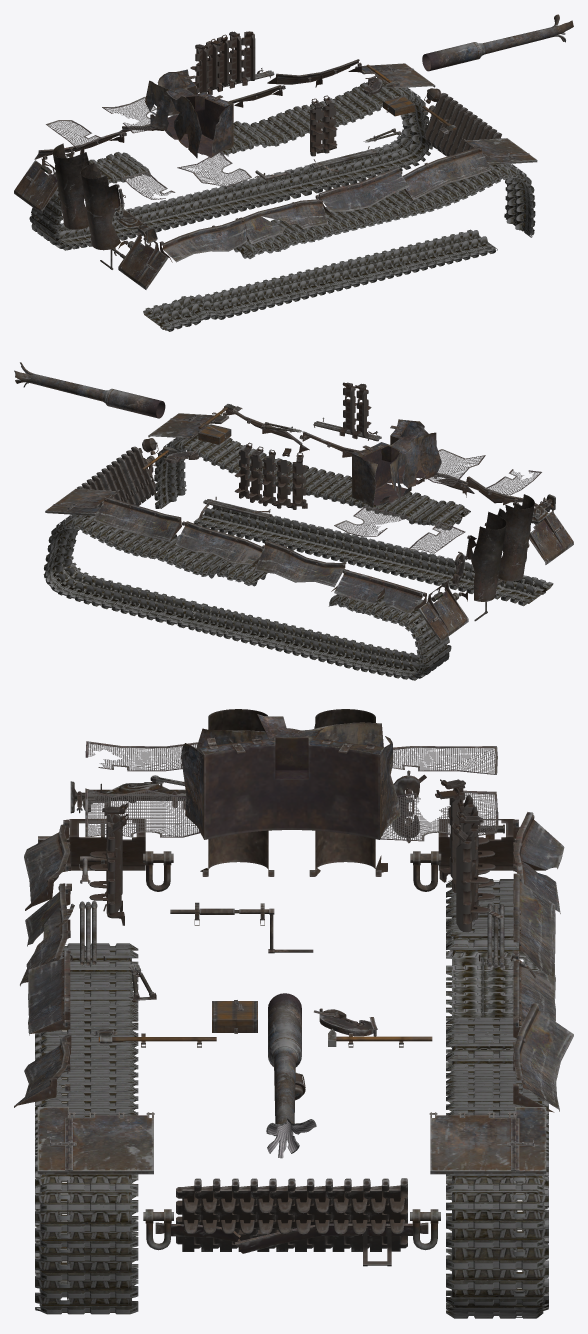
The model's file is pzkpfw_VI_ausf_E_tiger_dmg_0.obj.
3 views of the same model, one above another, from view 1: azimuth 30°, elevation 25°; view 2: azimuth 150°, elevation 25°; view 3: azimuth 270°, elevation 25° (orthographic). The views are drawn at different scales.
Visible parts, largest first — view 1: track_r_dmg, track_l_dmg, ex_decor_03_dmg, ex_armor_body_01_dstr, ex_decor_body_r_09_dstr, ex_armor_body_r_03_dstr, gun_barrel_dmg, ex_armor_body_r_05_dstr, ex_armor_body_r_04_dstr, ex_decor_body_l_09_dstr, ex_armor_body_r_06_dstr, ex_decor_03_dstr (+19 smaller); view 2: track_l_dmg, track_r_dmg, ex_decor_03_dmg, ex_armor_body_01_dstr, ex_armor_body_l_05_dstr, ex_armor_body_l_03_dstr, gun_barrel_dmg, ex_decor_body_l_09_dstr, ex_armor_body_l_04_dstr, ex_decor_body_r_09_dstr, ex_armor_body_l_06_dstr, ex_decor_03_dstr (+19 smaller); view 3: track_l_dmg, track_r_dmg, ex_decor_03_dmg, ex_armor_body_01_dstr, ex_armor_body_l_02_dstr, ex_armor_body_r_02_dstr, gun_barrel_dmg, ex_armor_body_l_03_dstr, ex_decor_r_06_dstr, ex_armor_body_l_05_dstr, ex_decor_body_r_09_dstr, ex_armor_body_r_04_dstr (+27 smaller).
Boxes of the visible parts, x1,y1,x2,y2 form: track_r_dmg: (143,154,535,331); track_l_dmg: (29,77,432,250); ex_decor_03_dmg: (149,69,233,158); ex_armor_body_01_dstr: (423,93,501,156); ex_decor_body_r_09_dstr: (80,163,120,250); ex_armor_body_r_03_dstr: (402,146,490,200); gun_barrel_dmg: (422,14,573,71); ex_armor_body_r_05_dstr: (242,199,328,244); ex_armor_body_r_04_dstr: (318,167,409,211); ex_decor_body_l_09_dstr: (52,143,89,229); ex_armor_body_r_06_dstr: (162,217,246,262); ex_decor_03_dstr: (145,80,201,158); track_l_dmg: (43,505,451,680); track_r_dmg: (154,434,553,606); ex_decor_03_dmg: (352,419,428,507); ex_armor_body_01_dstr: (77,446,156,505); ex_armor_body_l_05_dstr: (255,540,346,587); ex_armor_body_l_03_dstr: (93,496,181,541); gun_barrel_dmg: (14,362,165,418); ex_decor_body_l_09_dstr: (471,511,506,601); ex_armor_body_l_04_dstr: (175,521,262,564); ex_decor_body_r_09_dstr: (498,494,534,581); ex_armor_body_l_06_dstr: (334,570,423,614); ex_decor_03_dstr: (390,432,441,502); track_l_dmg: (446,879,548,1318); track_r_dmg: (35,943,138,1314); ex_decor_03_dmg: (181,714,400,839); ex_armor_body_01_dstr: (176,1178,407,1251); ex_armor_body_l_02_dstr: (429,1107,546,1174); ex_armor_body_r_02_dstr: (37,1107,154,1174); gun_barrel_dmg: (266,993,316,1158); ex_armor_body_l_03_dstr: (513,1003,573,1111); ex_decor_r_06_dstr: (85,788,200,837); ex_armor_body_l_05_dstr: (513,873,555,976); ex_decor_body_r_09_dstr: (208,709,274,876); ex_armor_body_r_04_dstr: (28,950,70,1035).
Size of the model in its own units: 7.8 by 2.67 by 3.94.
Materials: 7 (7 with a texture image).
